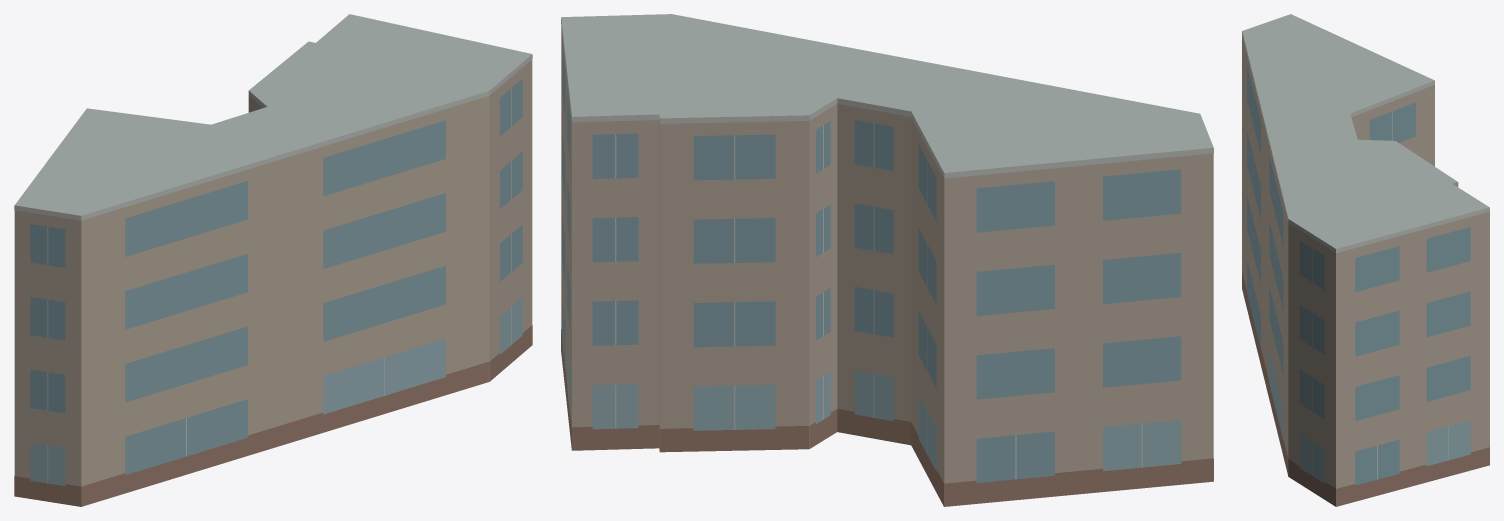
The model's file is survey-upis-32589162.glb.
The picture shows the model from 3 angles, left to right: view 1: azimuth 30°, elevation 25°; view 2: azimuth 150°, elevation 25°; view 3: azimuth 270°, elevation 25°; orthographic projection. The views are drawn at different scales.
Visible parts, largest first — view 1: survey-upis-32589162.tmp; view 2: survey-upis-32589162.tmp; view 3: survey-upis-32589162.tmp.
Boxes of the visible parts, x1,y1,x2,y2 form: survey-upis-32589162.tmp: [14, 14, 532, 506]; survey-upis-32589162.tmp: [561, 14, 1213, 506]; survey-upis-32589162.tmp: [1242, 14, 1489, 506].
Size of the model in its own units: 28.74 by 14.7 by 12.81.
